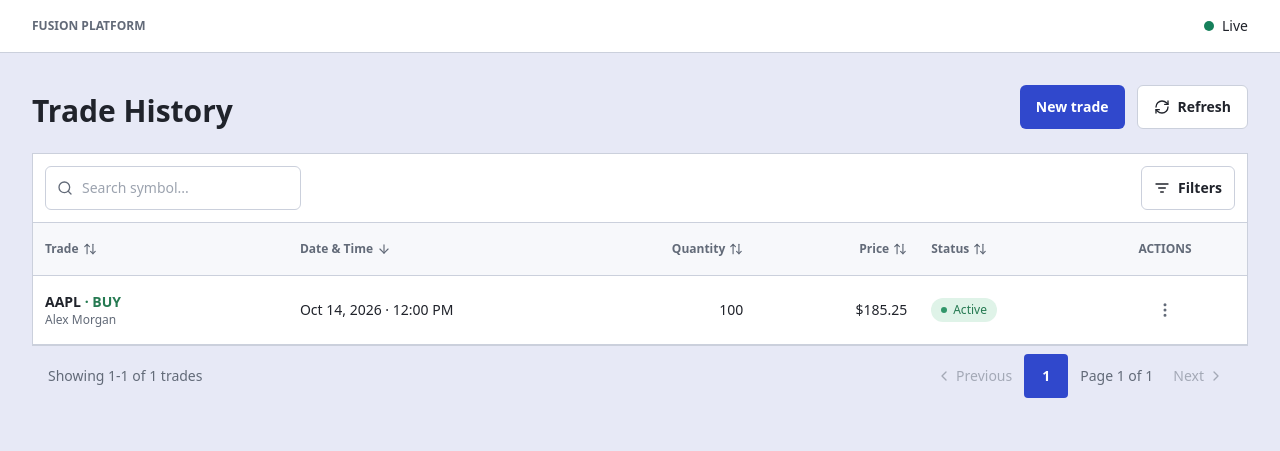
TradeHistoryPage › keeps the last successful snapshot visible when manual refresh fails
This screenshot has width=1280, height=451.
Check: the text "AAPL" is shown, box [45,292,81,311]
Click the button with aria-label "Refresh trades". click: (1192, 107)
box: [1136,85,1248,129]
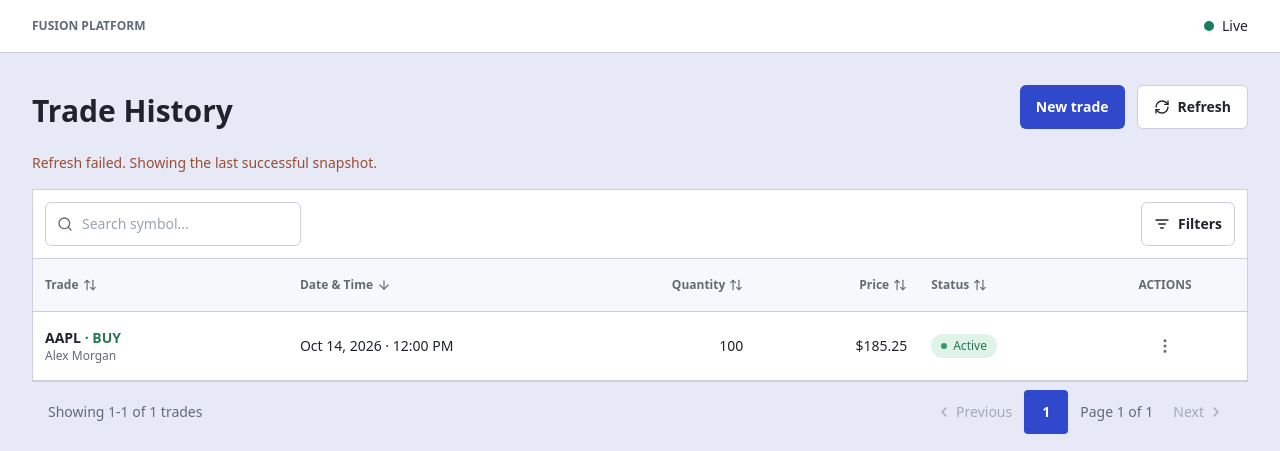
Check: the text "AAPL" is shown, box [45,328,81,347]
Check: the message "Refresh failed. Showing the last successful snapshot." is shown, box [32,153,377,172]
